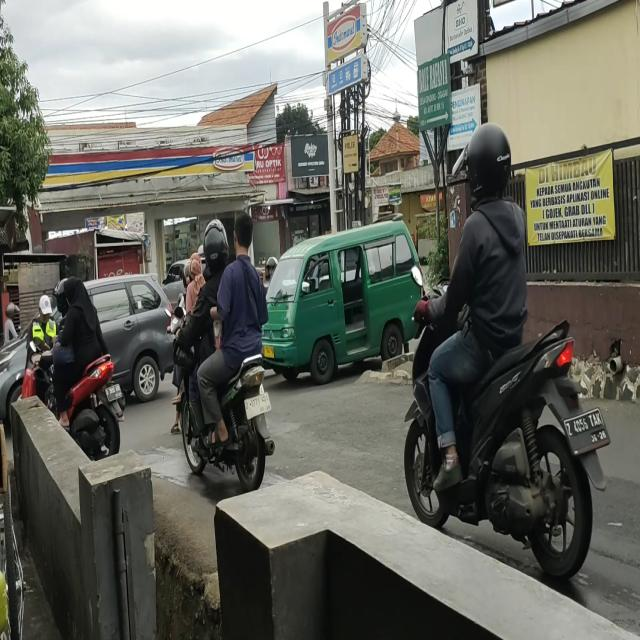helmet: (462, 121, 516, 201), (205, 217, 226, 271), (55, 278, 68, 318)
no-helmet: (235, 210, 255, 257), (64, 271, 85, 307), (185, 248, 203, 280)
